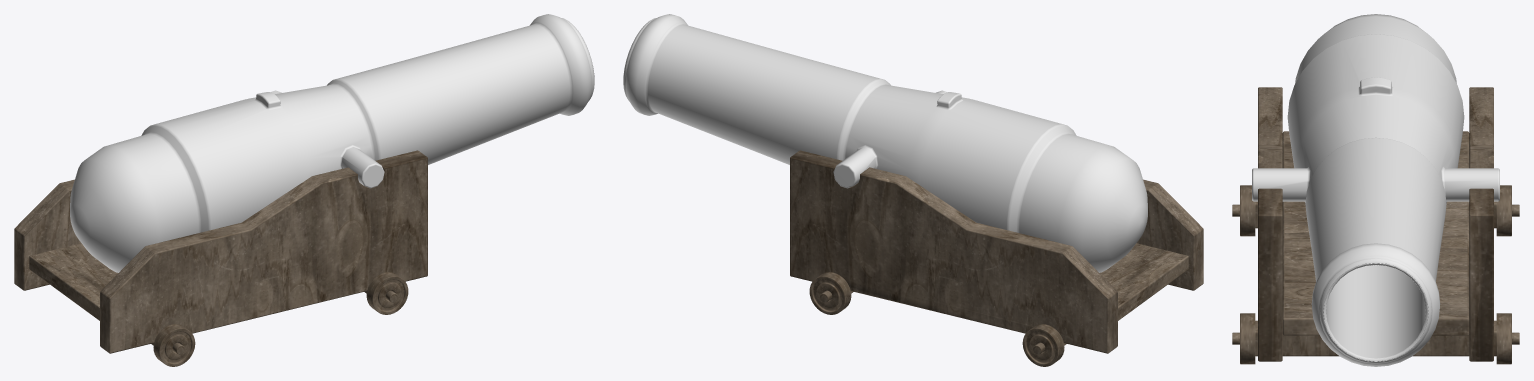
Rendered from canon_.fbx.
The picture shows the model from 3 angles, left to right: view 1: azimuth 30°, elevation 25°; view 2: azimuth 150°, elevation 25°; view 3: azimuth 270°, elevation 25°; orthographic projection. The views are drawn at different scales.
Visible parts, largest first — view 1: Cylinder; view 2: Cylinder; view 3: Cylinder.
Boxes of the visible parts, <box> form: Cylinder: <box>14,14,594,366</box>; Cylinder: <box>623,14,1203,366</box>; Cylinder: <box>1232,14,1519,366</box>.
Bounding box in the file's own units: 357 × 134 × 140.
2 materials, 1 textured.
